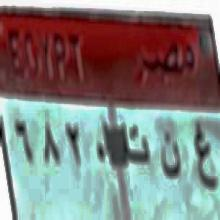0: (95, 132, 106, 166)
2: (63, 116, 83, 169)
6: (14, 115, 33, 176)
8: (41, 118, 61, 175)
ghayn: (192, 115, 218, 198)
noon: (158, 124, 182, 186)
taa: (124, 122, 152, 170)
